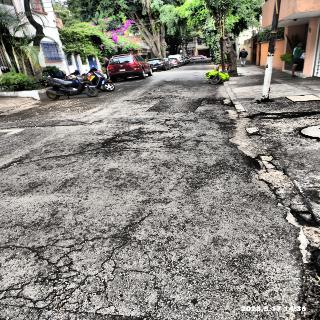alligator-crack: (0, 215, 158, 320)
crack: (96, 120, 165, 158)
